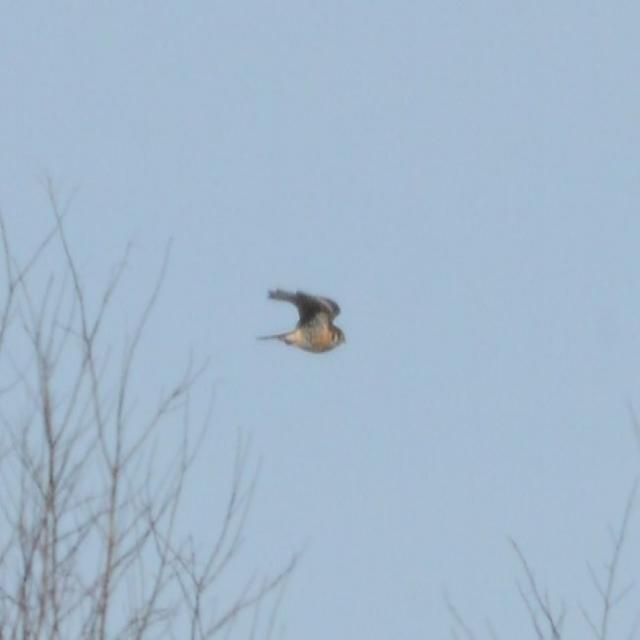birds: (257, 272, 355, 364)
